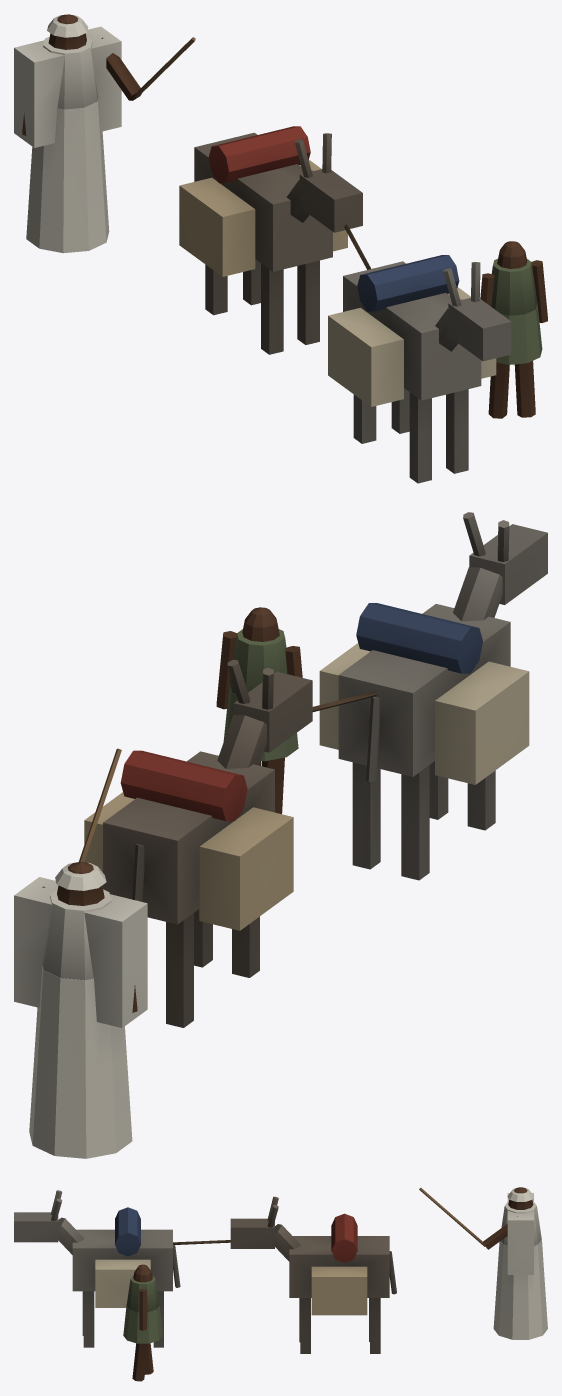
File: cart.glb
The picture shows the model from 3 angles, top to bottom: view 1: azimuth 30°, elevation 25°; view 2: azimuth 150°, elevation 25°; view 3: azimuth 270°, elevation 25°; orthographic projection. The views are drawn at different scales.
Visible parts, largest first — view 1: base; view 2: base; view 3: base.
Part boxes in pixels (left/top/right/bottom): base: left=14, top=14, right=547, bottom=483; base: left=14, top=512, right=547, bottom=1158; base: left=14, top=1187, right=547, bottom=1381.
Size of the model in its own units: 1.7 by 1.72 by 5.3.
